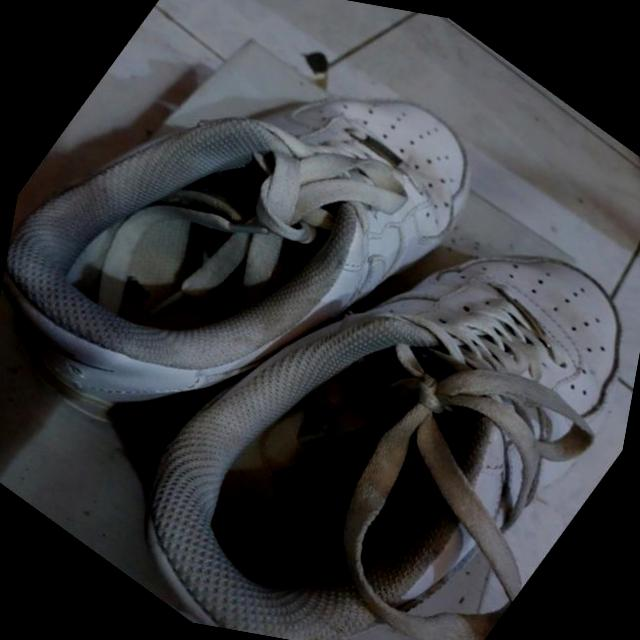nike_original_airforce: (78, 92, 640, 640), (0, 0, 537, 572)
